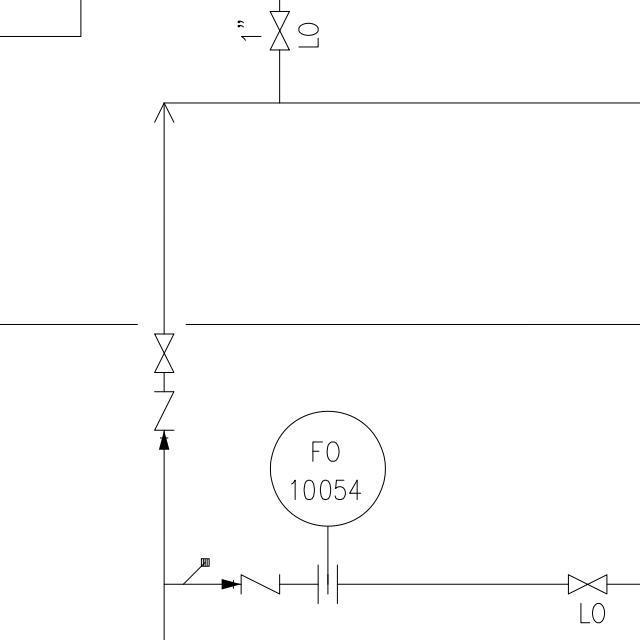GV: (151, 328, 179, 380), (561, 570, 613, 597), (268, 3, 294, 55)
